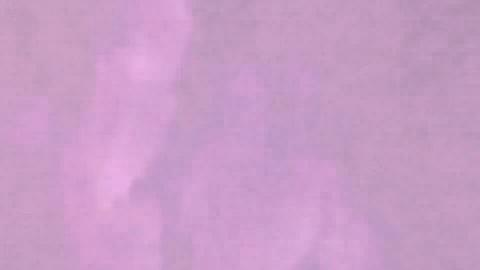tomato: (147, 65, 390, 268), (1, 120, 147, 268), (390, 132, 477, 268)
